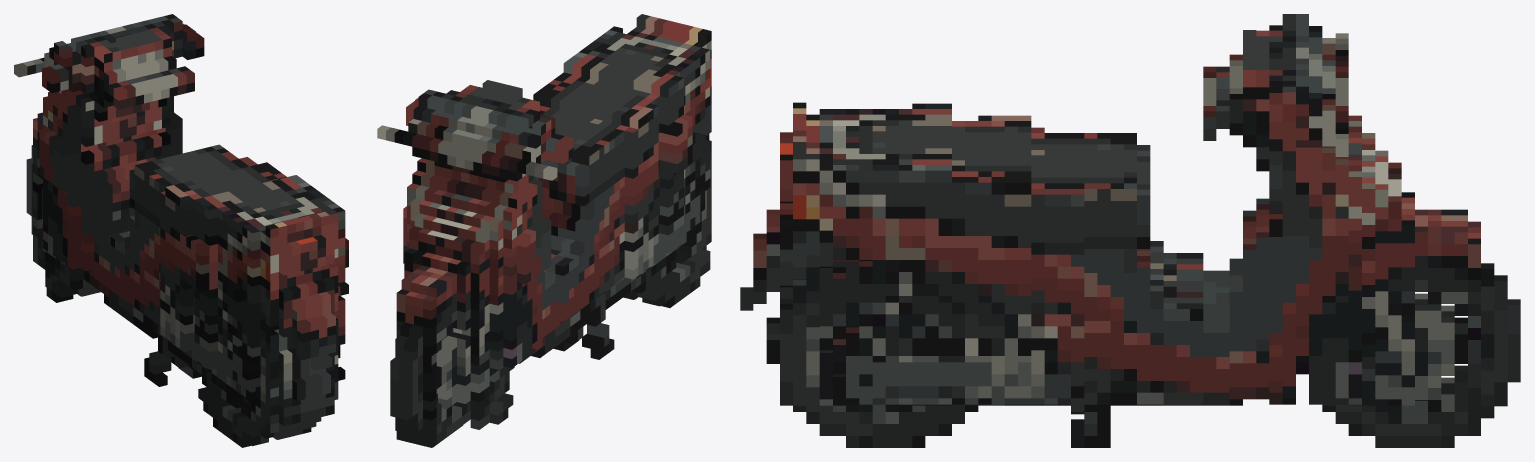
Rendered from city_motorbike.glb.
3 renders of one model, left to right at view 1: azimuth 30°, elevation 25°; view 2: azimuth 150°, elevation 25°; view 3: azimuth 270°, elevation 25°, orthographic. The views are drawn at different scales.
Parts seen in each view (by area): view 1: city_motorbike; view 2: city_motorbike; view 3: city_motorbike.
Boxes of the visible parts, x1=… form: city_motorbike: x1=14, y1=14, x2=348, y2=447; city_motorbike: x1=377, y1=14, x2=711, y2=447; city_motorbike: x1=740, y1=14, x2=1520, y2=447.
Size of the model in its own units: 0.625 by 1.03 by 1.84.
